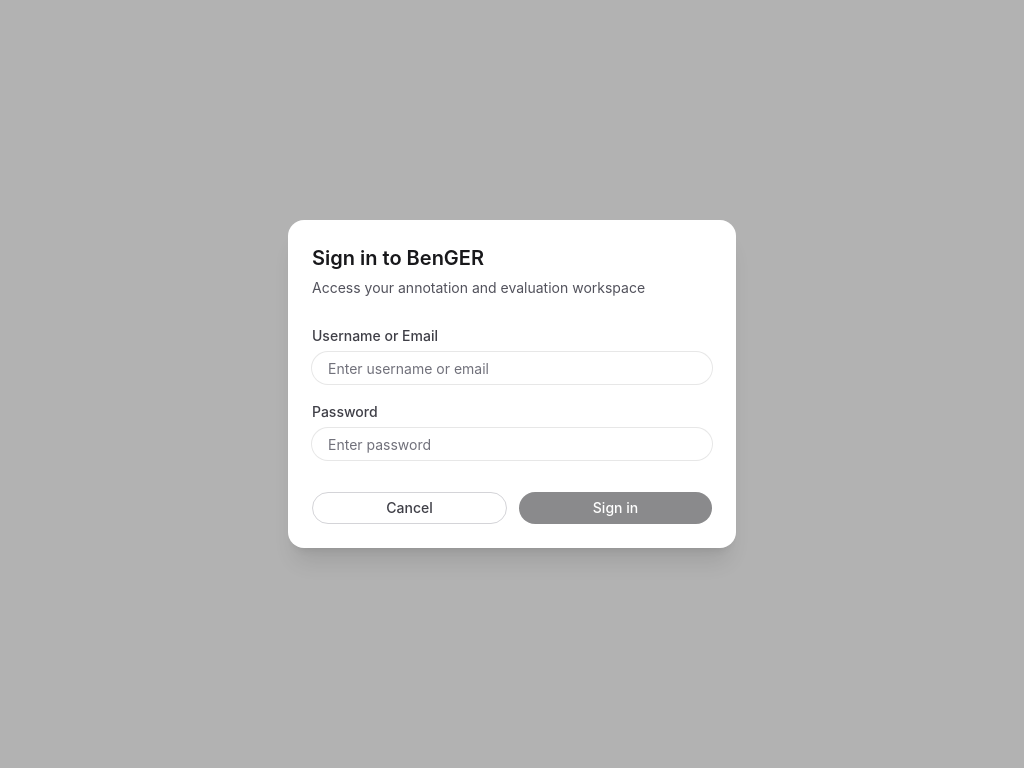
Scenario: LoginModal › Error Handling › displays generic error for unknown error types
Type "test@example.com" into the field labelled "Username or Email" at (512, 368), box [312,352,712,384]
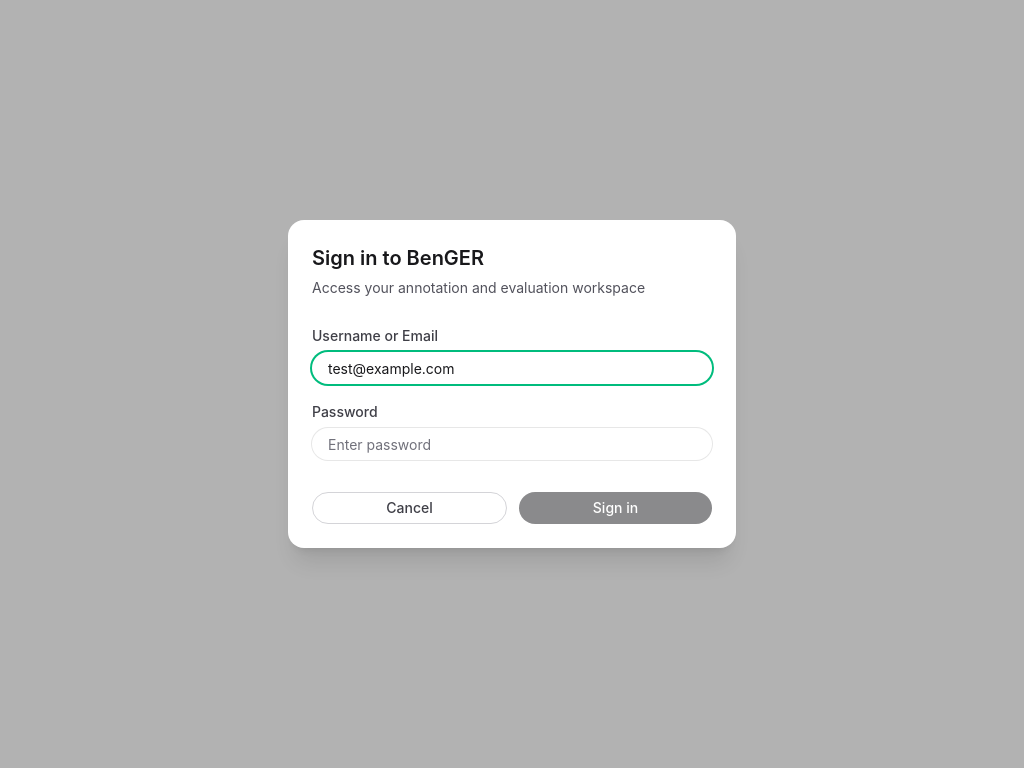
Type "password123" into the password field labelled "Password" at (512, 444), box [312,428,712,460]
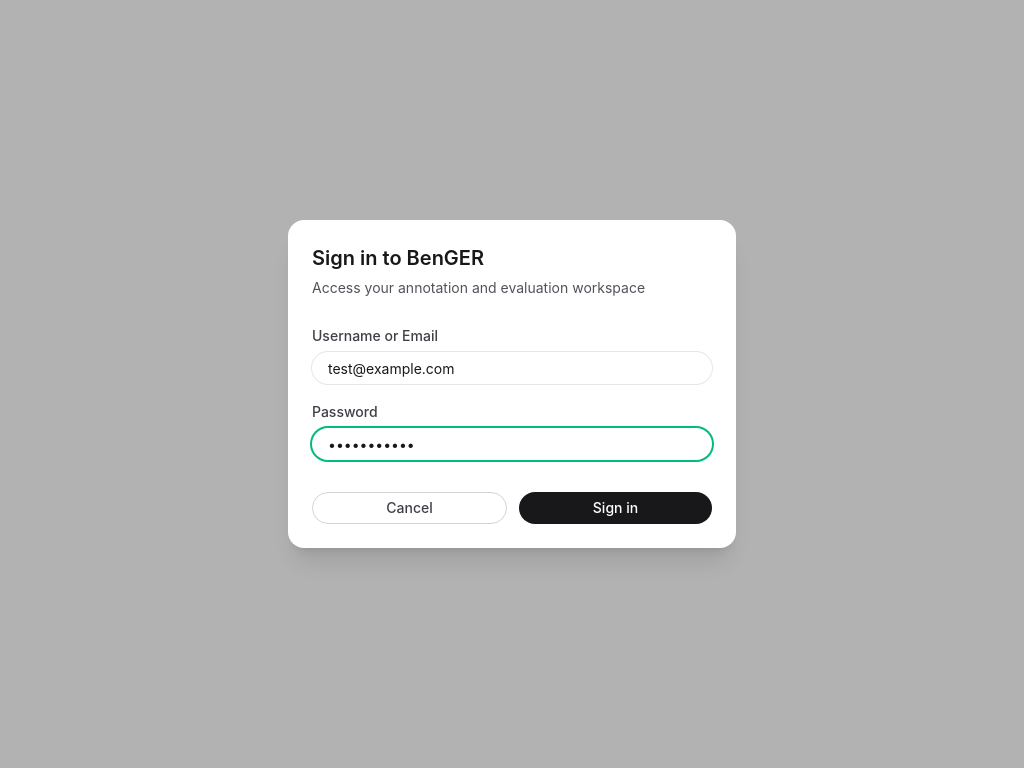
Click the button "Sign in" at (616, 508), box [519,492,712,524]
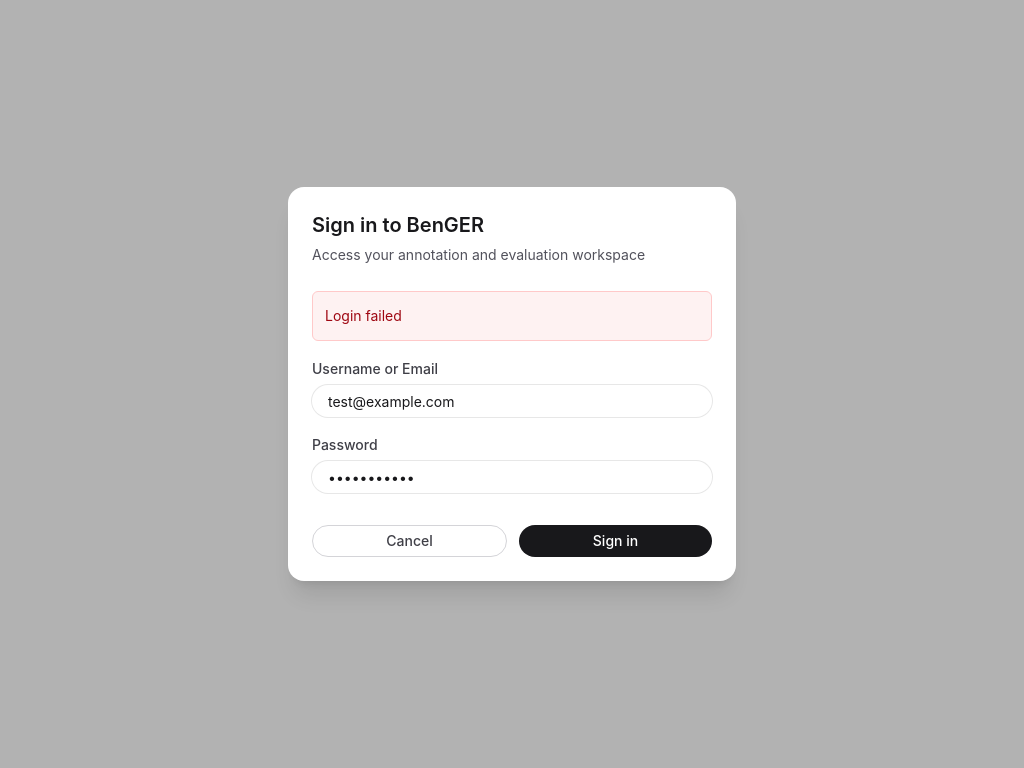
expect the text "Login failed" is shown: met, box [325,307,402,324]
